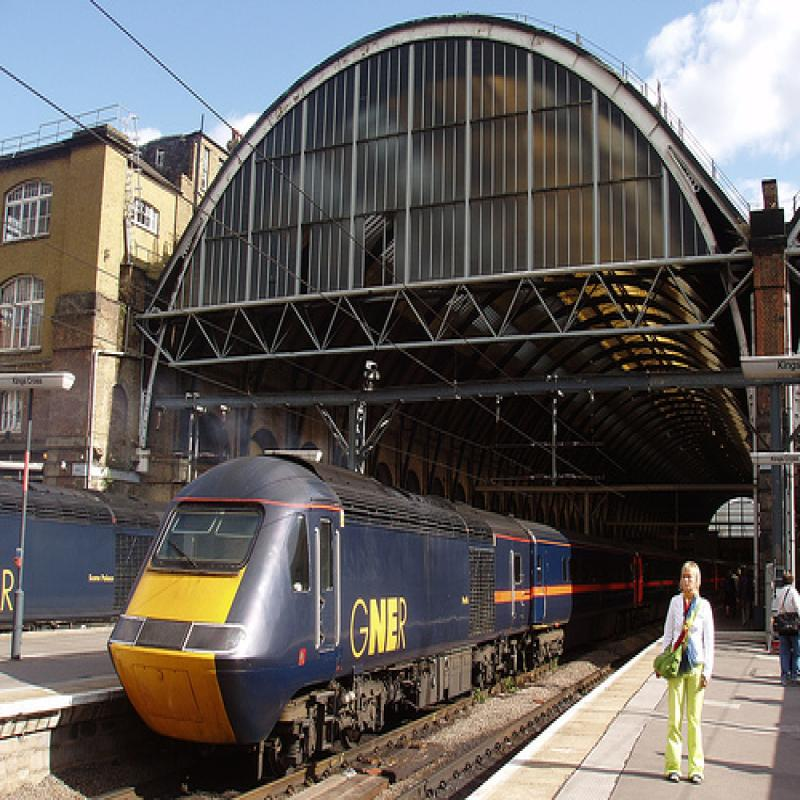train: (107, 451, 726, 786), (1, 471, 163, 633)
